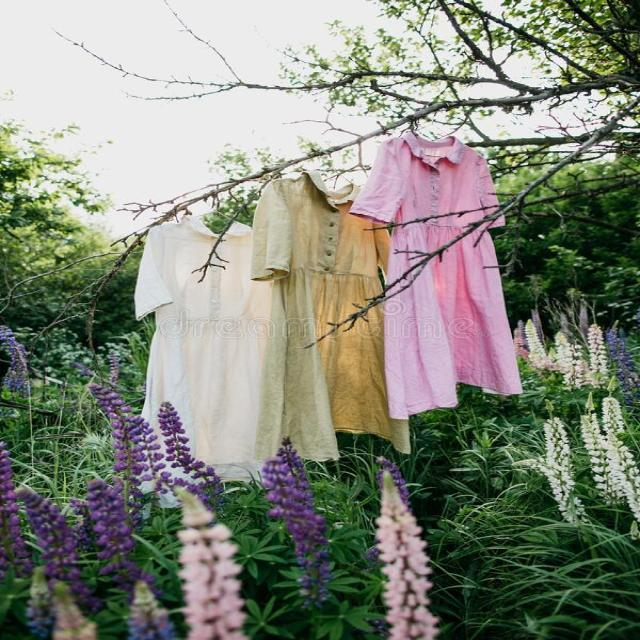clothes: (113, 140, 530, 457)
